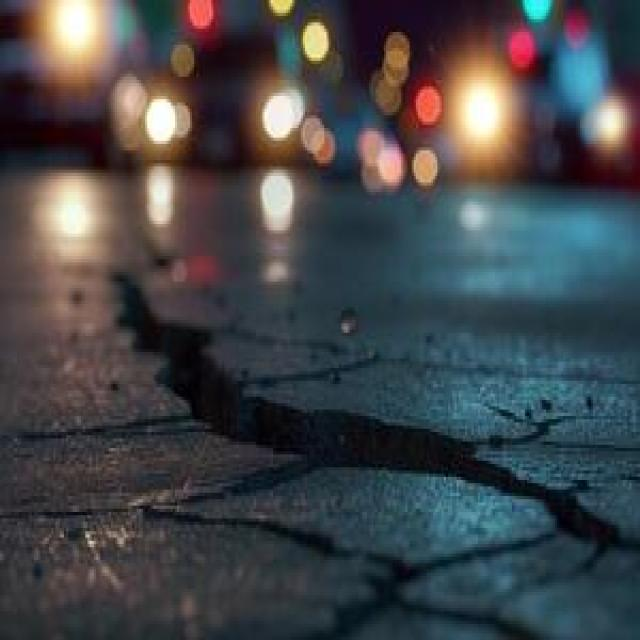road collapse: (74, 130, 640, 640)
